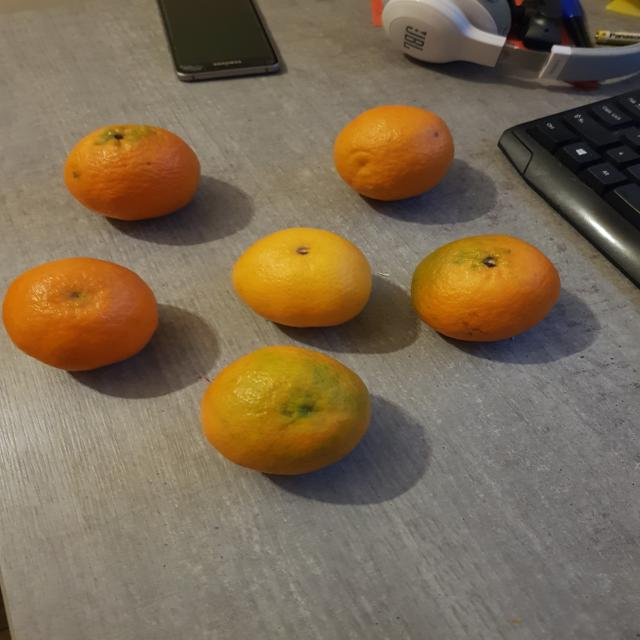Orange: (199, 344, 372, 477), (2, 257, 159, 372), (410, 234, 561, 343), (232, 228, 372, 328), (62, 124, 201, 221), (332, 105, 455, 201)
